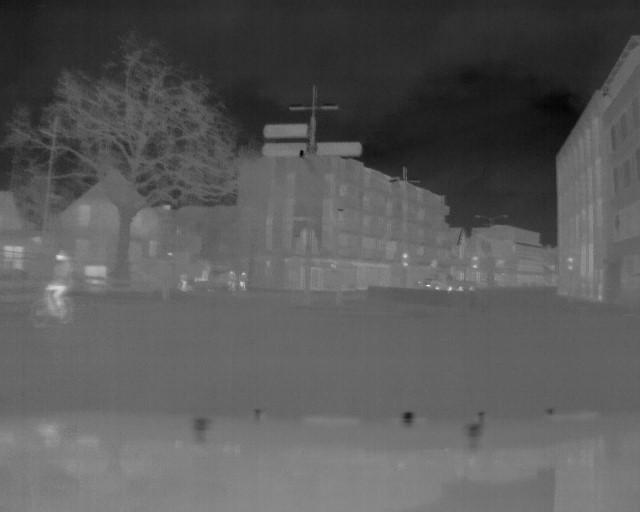person: (47, 245, 71, 318), (236, 269, 248, 291)
